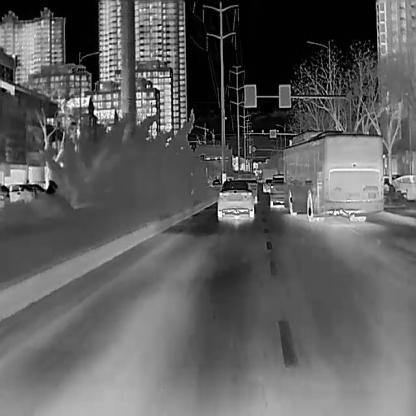bus: (282, 130, 382, 222)
car: (216, 180, 253, 218), (383, 174, 414, 198), (7, 184, 37, 204), (269, 174, 285, 206), (28, 183, 47, 195), (261, 178, 273, 192), (212, 178, 220, 189)
truck: (235, 173, 257, 203)
